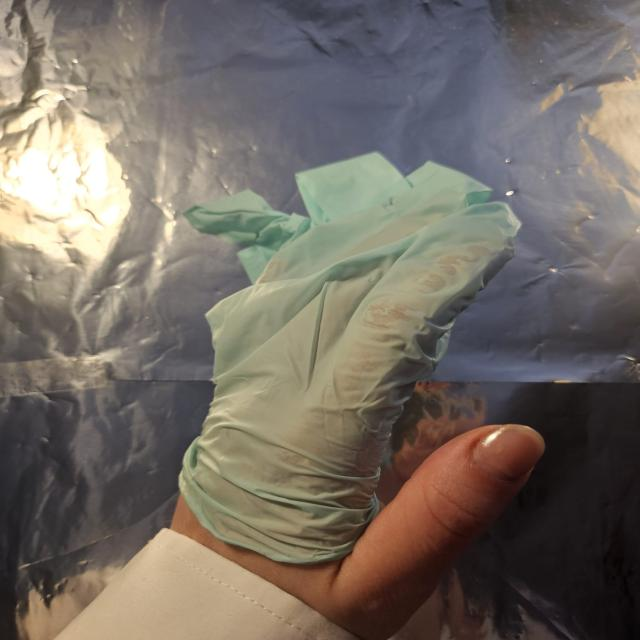glove_partial: (180, 150, 549, 640)
